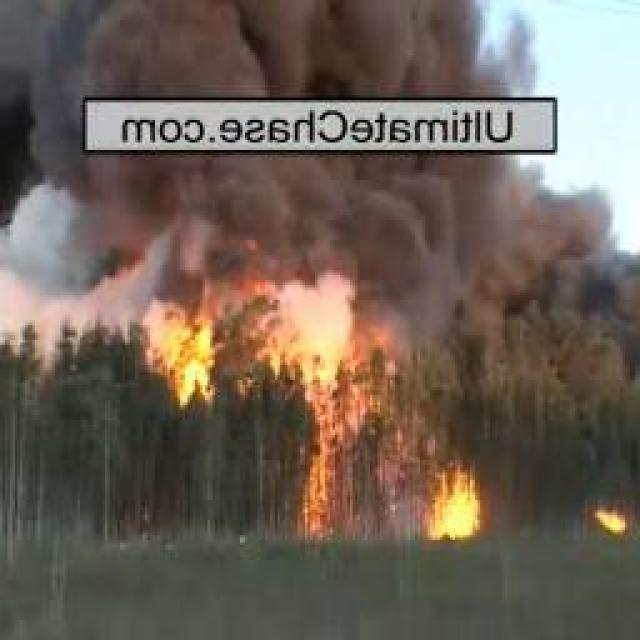Fire: (292, 398, 348, 538), (156, 310, 218, 407), (414, 464, 482, 540), (591, 507, 625, 542)
